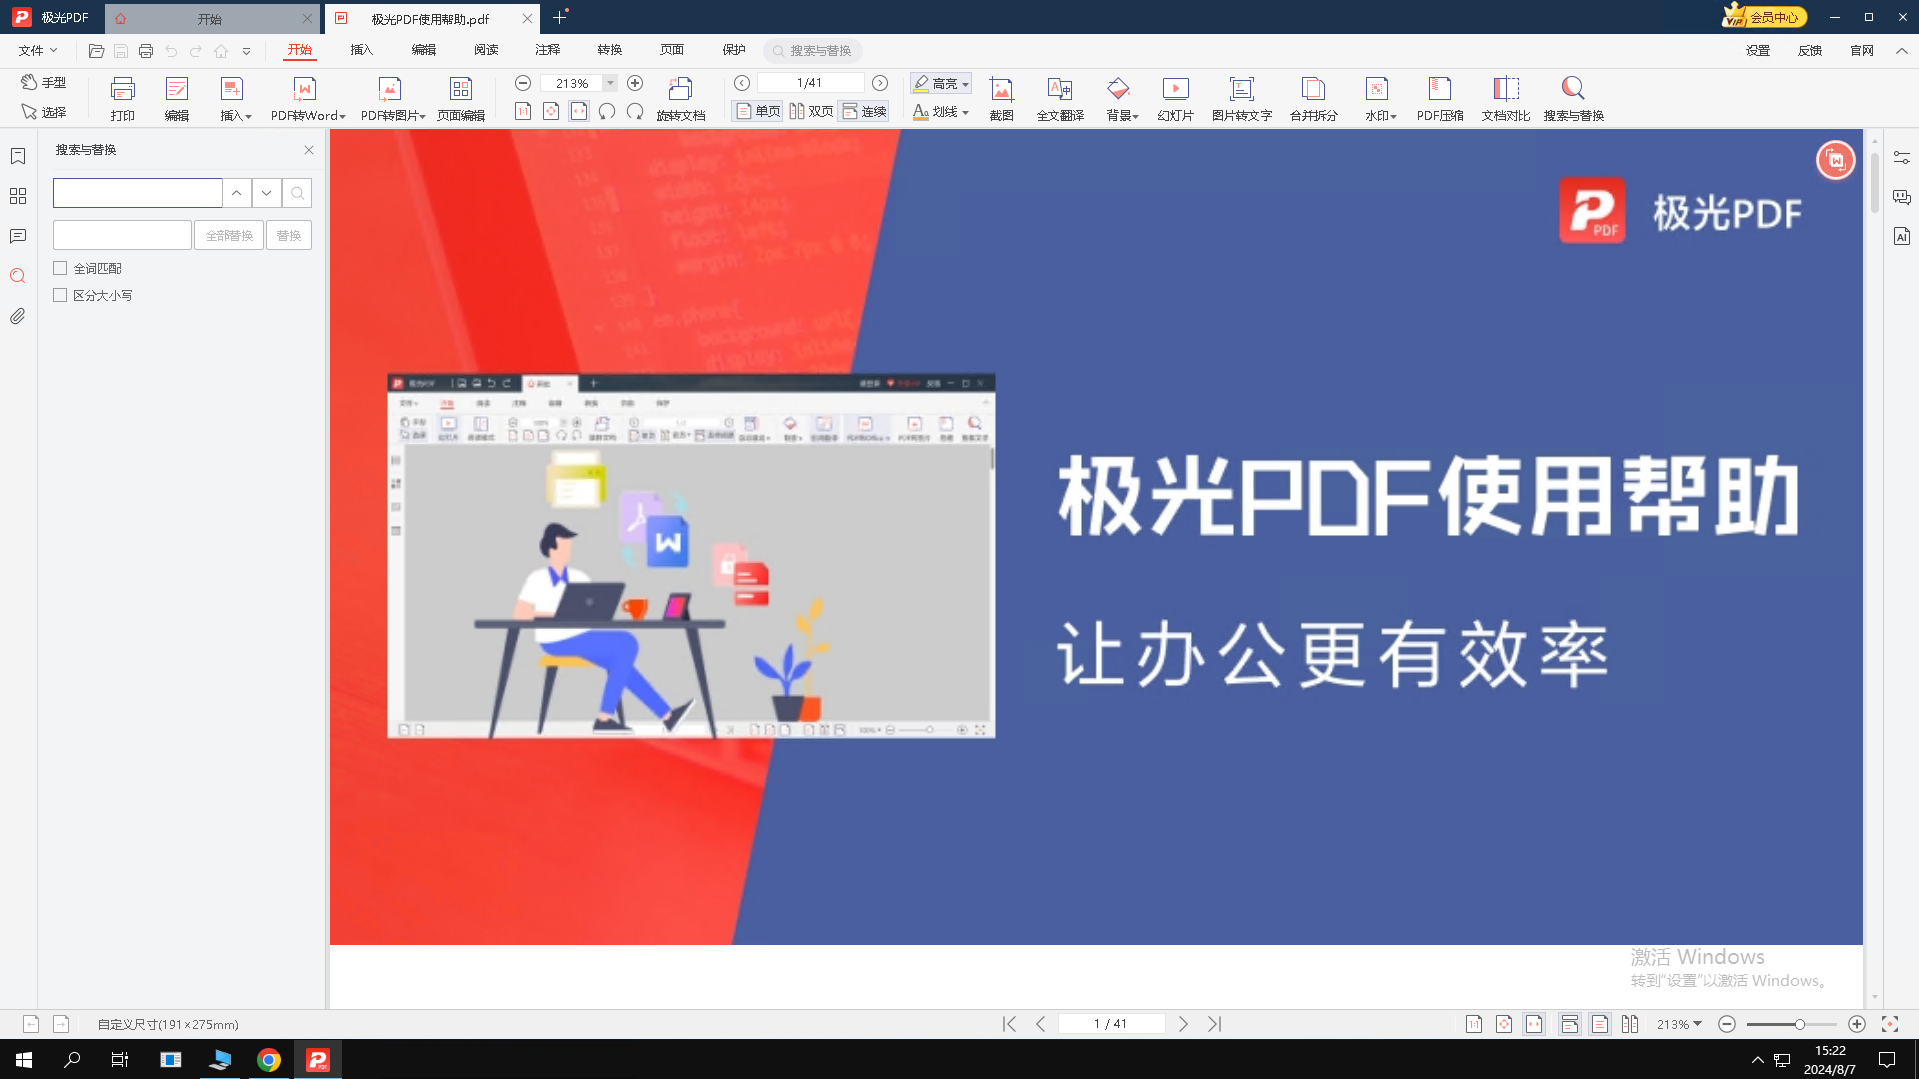Clickable: (46, 171, 225, 217), (248, 171, 283, 213), (221, 175, 253, 213), (293, 136, 323, 165)
Disabled: (49, 219, 198, 257), (192, 220, 260, 262), (262, 216, 315, 263)
Root: (37, 130, 328, 1007)
Selectable: (47, 254, 74, 281), (51, 285, 72, 314)
